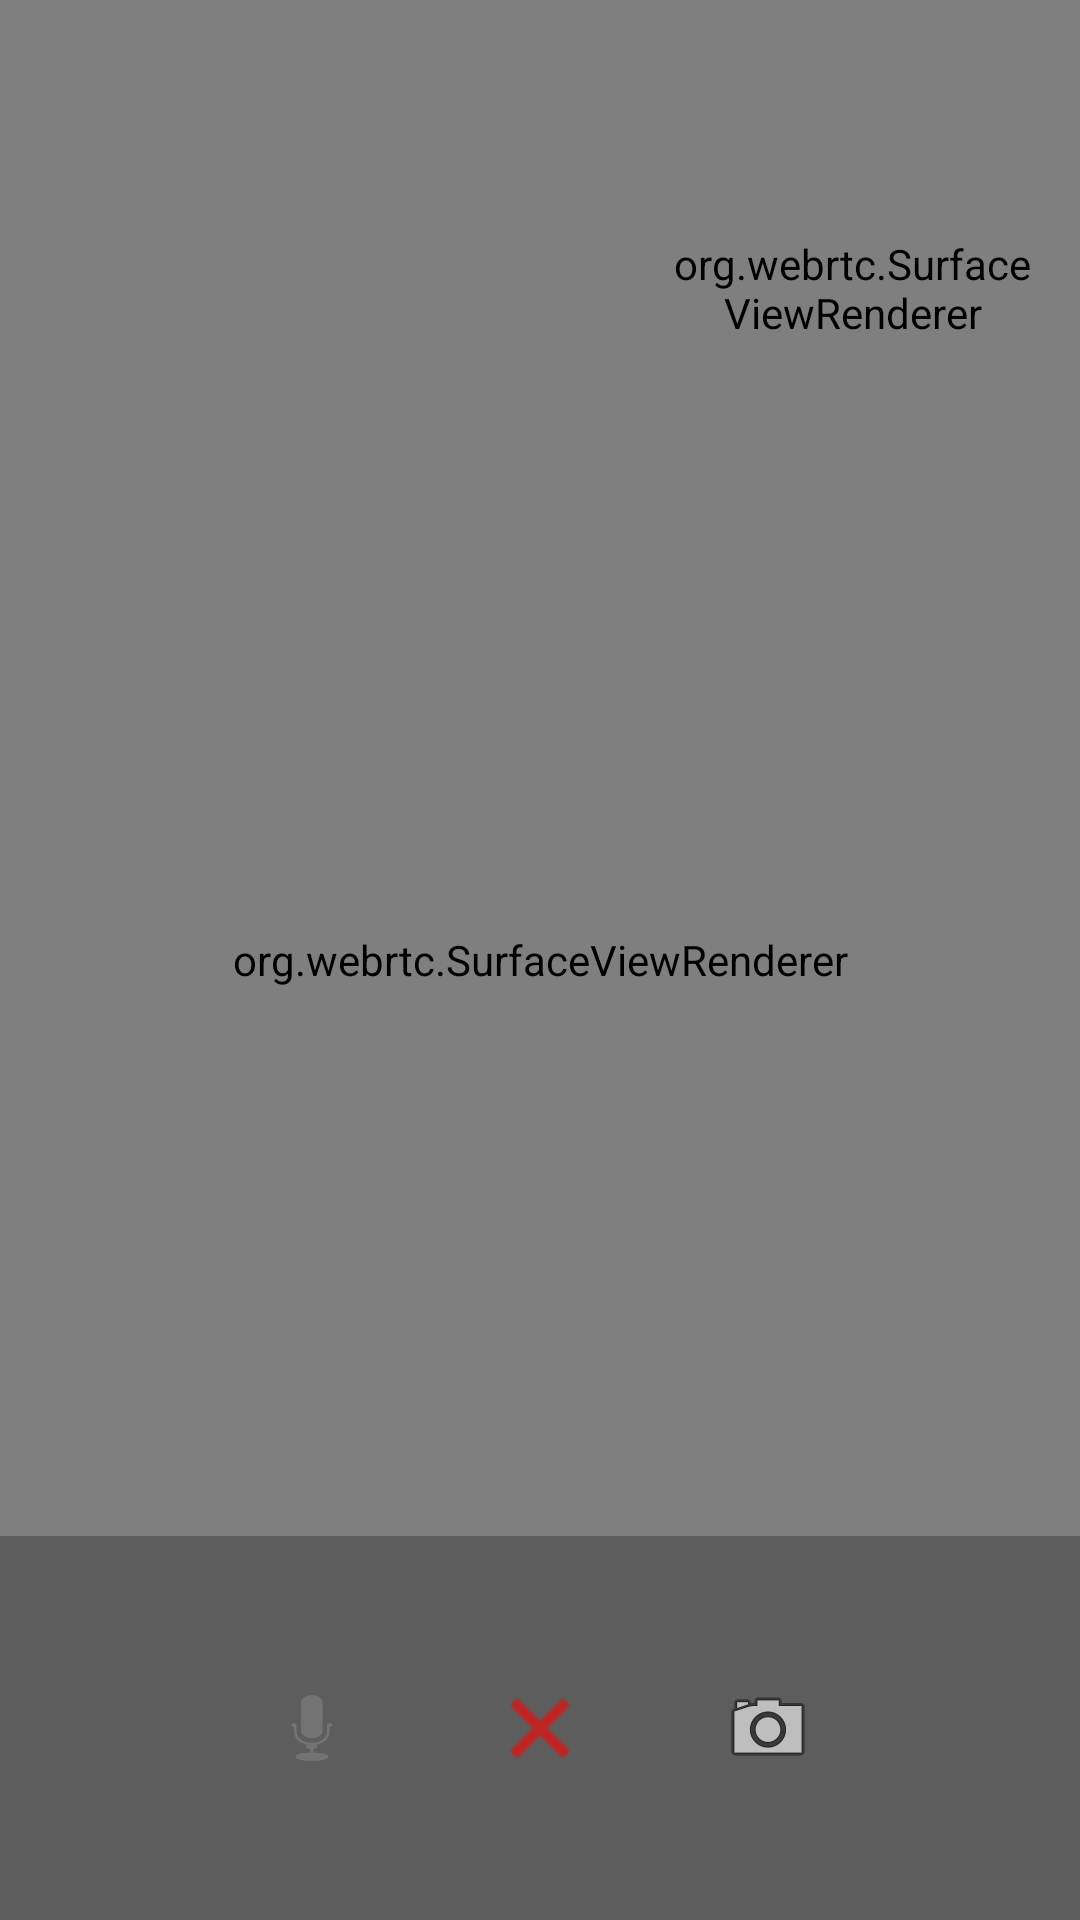

Locate icon controls on the screen. Image size 1080px x 1920px, boxes as region(x1, y1, x2, y2).
end: region(510, 1698, 570, 1758)
